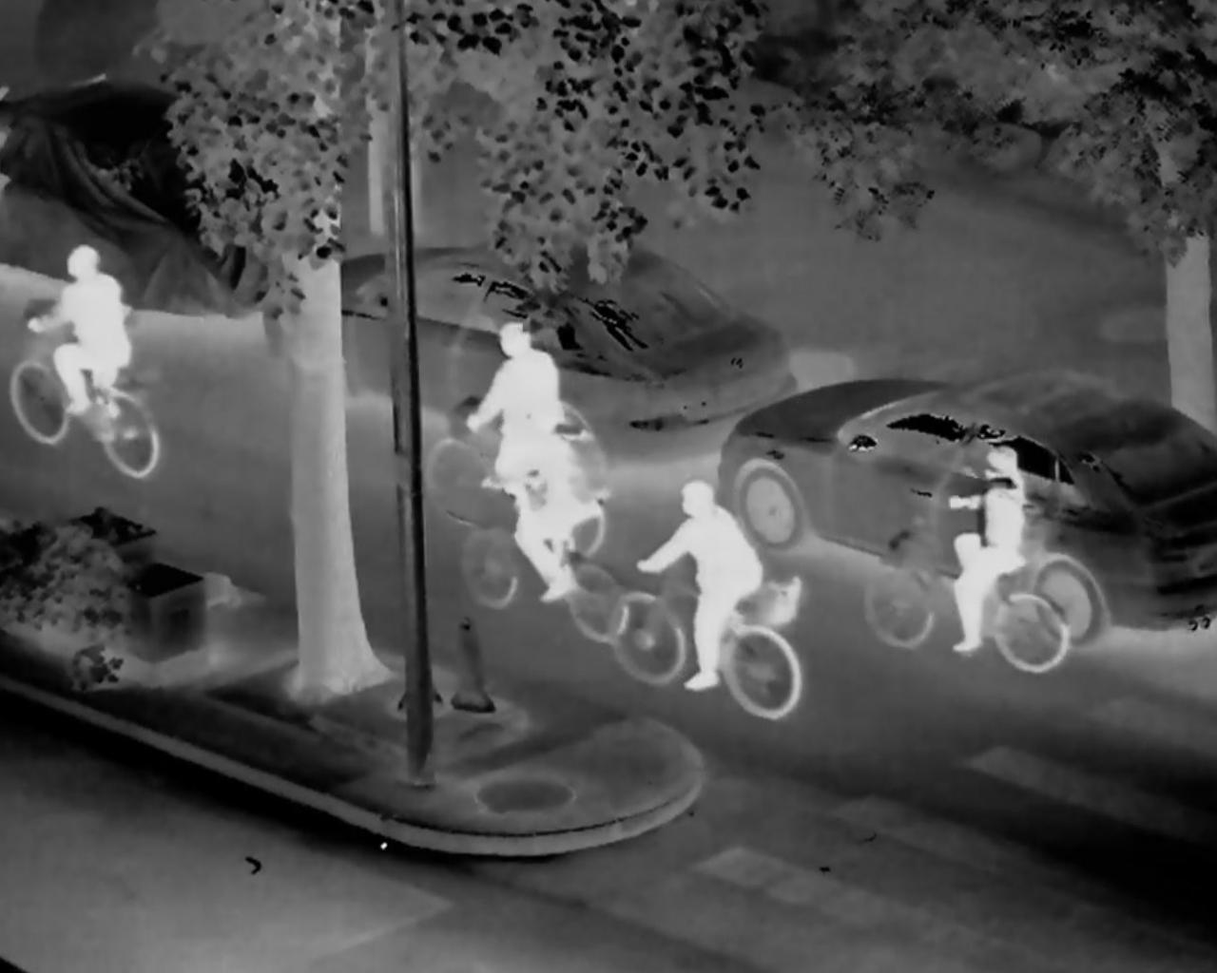person: (619, 473, 768, 714), (458, 293, 565, 512), (27, 238, 147, 418), (948, 440, 1039, 667), (515, 426, 608, 623)
